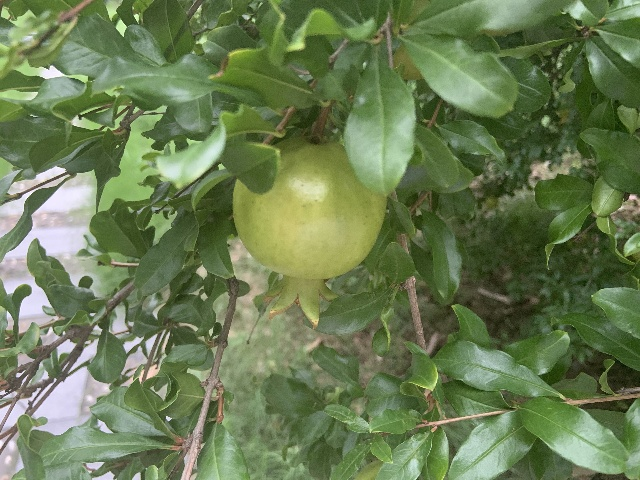mid-growth: (232, 138, 386, 327)
